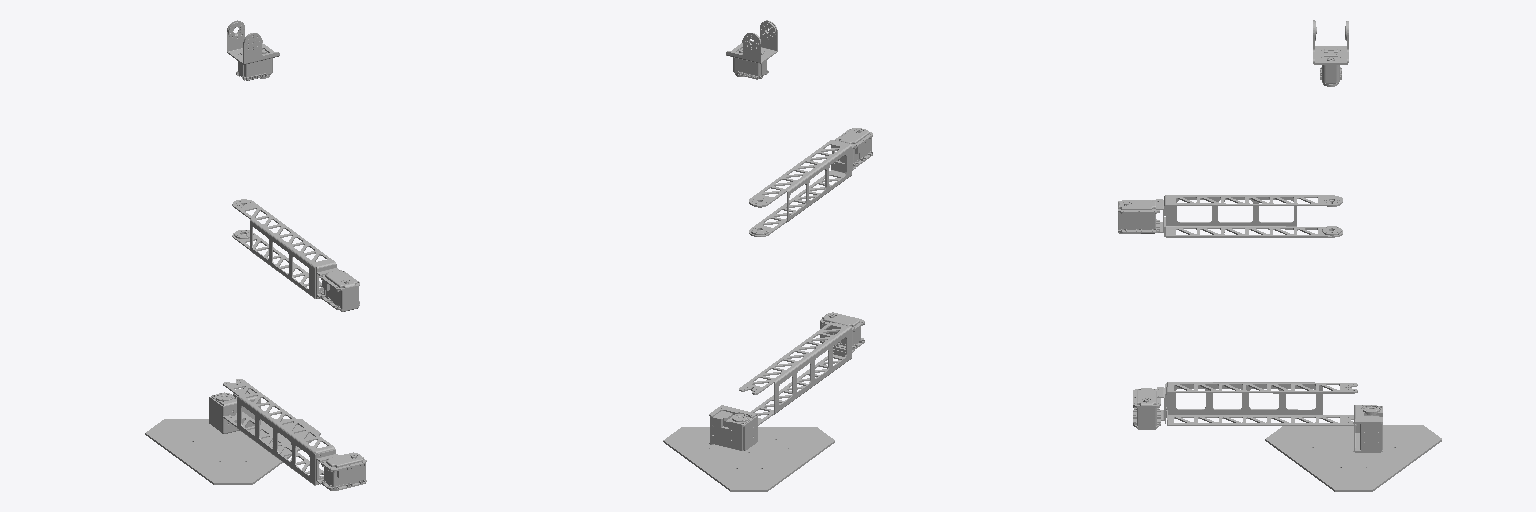
URDF robot description (urdf_arm_manipulator):
<?xml version="1.0" encoding="utf-8"?>
<!-- This URDF was automatically created by SolidWorks to URDF Exporter! Originally created by [author] ([email redacted]) 
     Commit Version: 1.6.0-1-g15f4949  Build Version: 1.6.7594.29634
     For more information, please see http://wiki.ros.org/sw_urdf_exporter -->
<robot
  name="urdf_arm_manipulator">
  <link
    name="base_link">
    <inertial>
      <origin
        xyz="-0.00038925 0.019099 2.2211E-08"
        rpy="0 0 0" />
      <mass
        value="0.99888" />
      <inertia
        ixx="0.0015356"
        ixy="5.2783E-06"
        ixz="5.2648E-08"
        iyy="0.0033614"
        iyz="-7.8329E-10"
        izz="0.0020827" />
    </inertial>
    <visual>
      <origin
        xyz="0 0 0"
        rpy="0 0 0" />
      <geometry>
        <mesh
          filename="package://urdf_arm_manipulator/meshes/base_link.STL" />
      </geometry>
      <material
        name="">
        <color
          rgba="0.75294 0.75294 0.75294 1" />
      </material>
    </visual>
    <collision>
      <origin
        xyz="0 0 0"
        rpy="0 0 0" />
      <geometry>
        <mesh
          filename="package://urdf_arm_manipulator/meshes/base_link.STL" />
      </geometry>
    </collision>
  </link>
  <link
    name="link_1">
    <inertial>
      <origin
        xyz="0.00031031 0.017557 0.0085881"
        rpy="0 0 0" />
      <mass
        value="0.18582" />
      <inertia
        ixx="0.00011451"
        ixy="-8.3462E-14"
        ixz="1.6188E-07"
        iyy="0.00018668"
        iyz="2.4586E-06"
        izz="9.7067E-05" />
    </inertial>
    <visual>
      <origin
        xyz="0 0 0"
        rpy="0 0 0" />
      <geometry>
        <mesh
          filename="package://urdf_arm_manipulator/meshes/link_1.STL" />
      </geometry>
      <material
        name="">
        <color
          rgba="0.75294 0.75294 0.75294 1" />
      </material>
    </visual>
    <collision>
      <origin
        xyz="0 0 0"
        rpy="0 0 0" />
      <geometry>
        <mesh
          filename="package://urdf_arm_manipulator/meshes/link_1.STL" />
      </geometry>
    </collision>
  </link>
  <joint
    name="joint_1"
    type="continuous">
    <origin
      xyz="0 0 0.0465"
      rpy="1.5708 0 3.138" />
    <parent
      link="base_link" />
    <child
      link="link_1" />
    <axis
      xyz="0 1 0" />
  </joint>
  <link
    name="link_2">
    <inertial>
      <origin
        xyz="0.0005241 0.21494 0.0030261"
        rpy="0 0 0" />
      <mass
        value="0.17769" />
      <inertia
        ixx="0.00074438"
        ixy="1.9798E-13"
        ixz="3.1614E-07"
        iyy="0.00010123"
        iyz="6.591E-06"
        izz="0.00077654" />
    </inertial>
    <visual>
      <origin
        xyz="0 0 0"
        rpy="0 0 0" />
      <geometry>
        <mesh
          filename="package://urdf_arm_manipulator/meshes/link_2.STL" />
      </geometry>
      <material
        name="">
        <color
          rgba="0.75294 0.75294 0.75294 1" />
      </material>
    </visual>
    <collision>
      <origin
        xyz="0 0 0"
        rpy="0 0 0" />
      <geometry>
        <mesh
          filename="package://urdf_arm_manipulator/meshes/link_2.STL" />
      </geometry>
    </collision>
  </link>
  <joint
    name="joint_2"
    type="continuous">
    <origin
      xyz="0 0.0305 0"
      rpy="3.1416 0 -3.1416" />
    <parent
      link="link_1" />
    <child
      link="link_2" />
    <axis
      xyz="1 0 0" />
  </joint>
  <link
    name="link_3">
    <inertial>
      <origin
        xyz="0.00069544 0.19751 -0.0016747"
        rpy="0 0 0" />
      <mass
        value="0.1655" />
      <inertia
        ixx="0.00056833"
        ixy="3.1614E-07"
        ixz="-1.9962E-13"
        iyy="7.7094E-05"
        iyz="9.3981E-06"
        izz="0.00060632" />
    </inertial>
    <visual>
      <origin
        xyz="0 0 0"
        rpy="0 0 0" />
      <geometry>
        <mesh
          filename="package://urdf_arm_manipulator/meshes/link_3.STL" />
      </geometry>
      <material
        name="">
        <color
          rgba="0.75294 0.75294 0.75294 1" />
      </material>
    </visual>
    <collision>
      <origin
        xyz="0 0 0"
        rpy="0 0 0" />
      <geometry>
        <mesh
          filename="package://urdf_arm_manipulator/meshes/link_3.STL" />
      </geometry>
    </collision>
  </link>
  <joint
    name="joint_3"
    type="continuous">
    <origin
      xyz="0 0.2992 0.0316"
      rpy="0 0 0" />
    <parent
      link="link_2" />
    <child
      link="link_3" />
    <axis
      xyz="1 0 0" />
  </joint>
  <link
    name="link_4">
    <inertial>
      <origin
        xyz="-0.00031688 0.014002 -0.037776"
        rpy="0 0 0" />
      <mass
        value="0.071233" />
      <inertia
        ixx="2.3992E-05"
        ixy="1.0314E-08"
        ixz="1.4972E-09"
        iyy="2.3081E-05"
        iyz="1.883E-06"
        izz="2.9268E-05" />
    </inertial>
    <visual>
      <origin
        xyz="0 0 0"
        rpy="0 0 0" />
      <geometry>
        <mesh
          filename="package://urdf_arm_manipulator/meshes/link_4.STL" />
      </geometry>
      <material
        name="">
        <color
          rgba="0.75294 0.75294 0.75294 1" />
      </material>
    </visual>
    <collision>
      <origin
        xyz="0 0 0"
        rpy="0 0 0" />
      <geometry>
        <mesh
          filename="package://urdf_arm_manipulator/meshes/link_4.STL" />
      </geometry>
    </collision>
  </link>
  <joint
    name="joint_4"
    type="continuous">
    <origin
      xyz="0 0.2967 0.00185"
      rpy="-1.5708 0 -3.1416" />
    <parent
      link="link_3" />
    <child
      link="link_4" />
    <axis
      xyz="1 0 0" />
  </joint>
</robot>

--- Facts derived from the render (not from the file) ---
Views: 3 orthographic renders of the robot side by side, from view 1: azimuth 30°, elevation 25°; view 2: azimuth 150°, elevation 25°; view 3: azimuth 270°, elevation 25°.
Model urdf_arm_manipulator with 5 links and 4 joints (4 continuous), rooted at base_link, posed all joints at 0.
Visible links, largest first — view 1: base_link, link_2, link_3, link_4, link_1; view 2: base_link, link_2, link_3, link_1, link_4; view 3: base_link, link_2, link_3, link_1, link_4.
Boxes of the visible links, x1,y1,x2,y2 form: base_link: (145,419,320,484); link_2: (223,379,366,490); link_3: (232,199,359,311); link_4: (227,20,279,80); link_1: (209,387,260,433); base_link: (663,427,834,491); link_2: (739,312,864,425); link_3: (749,128,872,236); link_1: (709,405,757,450); link_4: (726,20,777,79); base_link: (1265,425,1441,491); link_2: (1133,382,1357,429); link_3: (1118,195,1342,237); link_1: (1354,405,1382,452); link_4: (1313,20,1348,86).
Size in the robot's own frame: 0.2216 by 0.4693 by 0.6878 metres.
5 mesh visuals loaded from 5 distinct referenced files (5 binary STL).